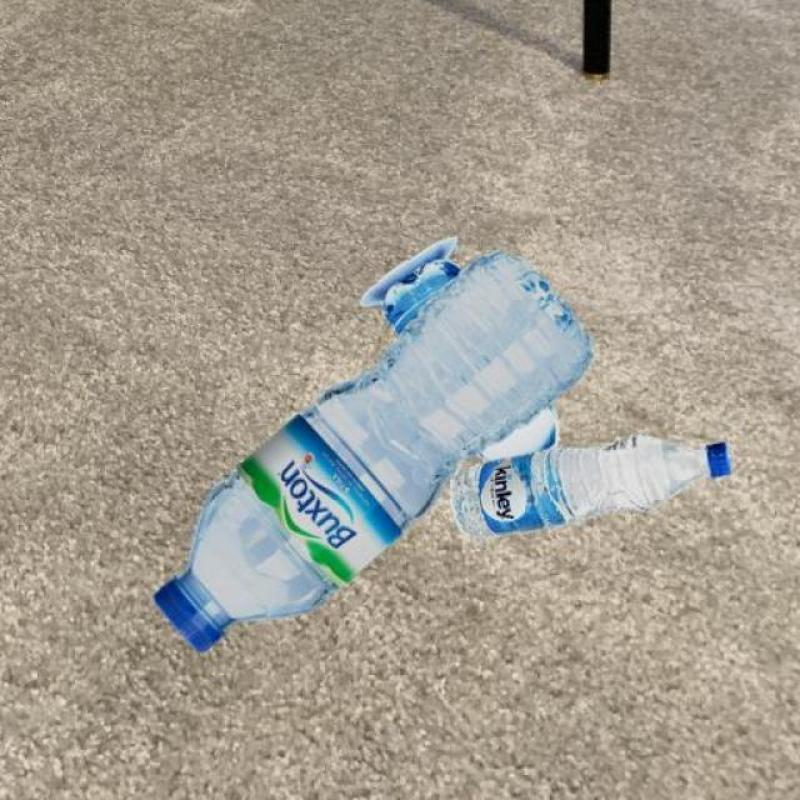botella: (150, 250, 592, 652), (385, 260, 559, 466), (454, 437, 735, 543)
